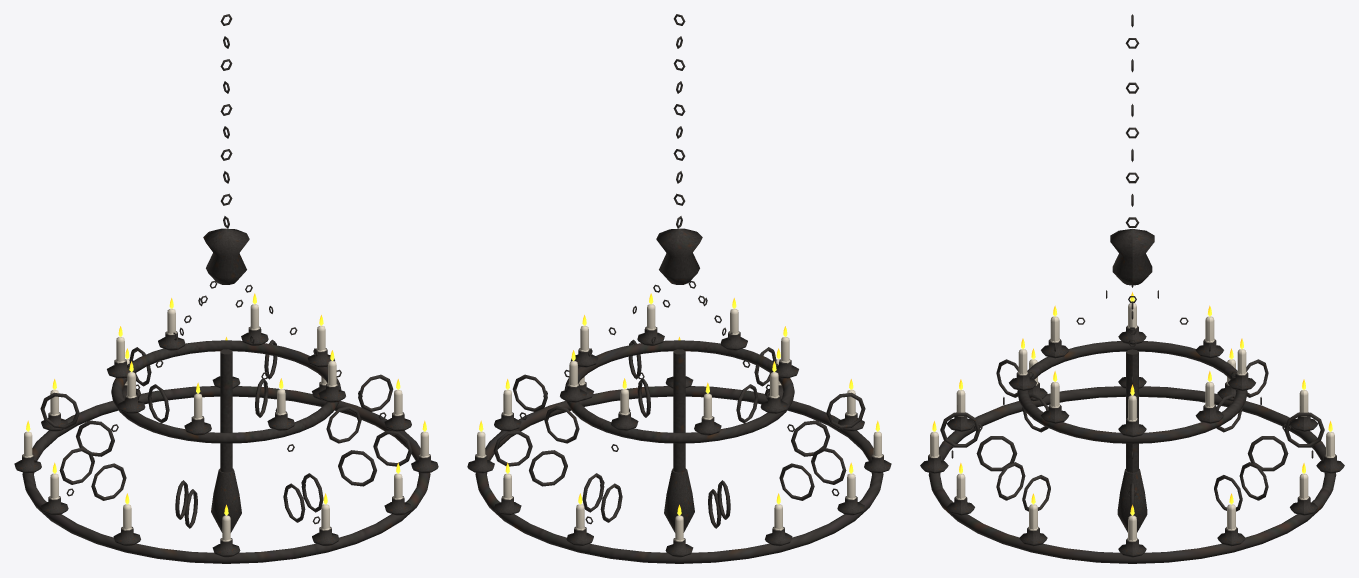
The model's file is iron_chandelier.glb.
3 views of the same model, side by side, from view 1: azimuth 30°, elevation 25°; view 2: azimuth 150°, elevation 25°; view 3: azimuth 270°, elevation 25° (orthographic).
Visible parts, largest first — view 1: iron_chandelier; view 2: iron_chandelier; view 3: iron_chandelier.
Part boxes in pixels (<box>): iron_chandelier: <box>14,14,438,563</box>; iron_chandelier: <box>467,14,891,563</box>; iron_chandelier: <box>920,14,1344,563</box>.
Bounding box in the file's own units: 1.63 × 2.23 × 1.63.
1 material, 1 textured.
